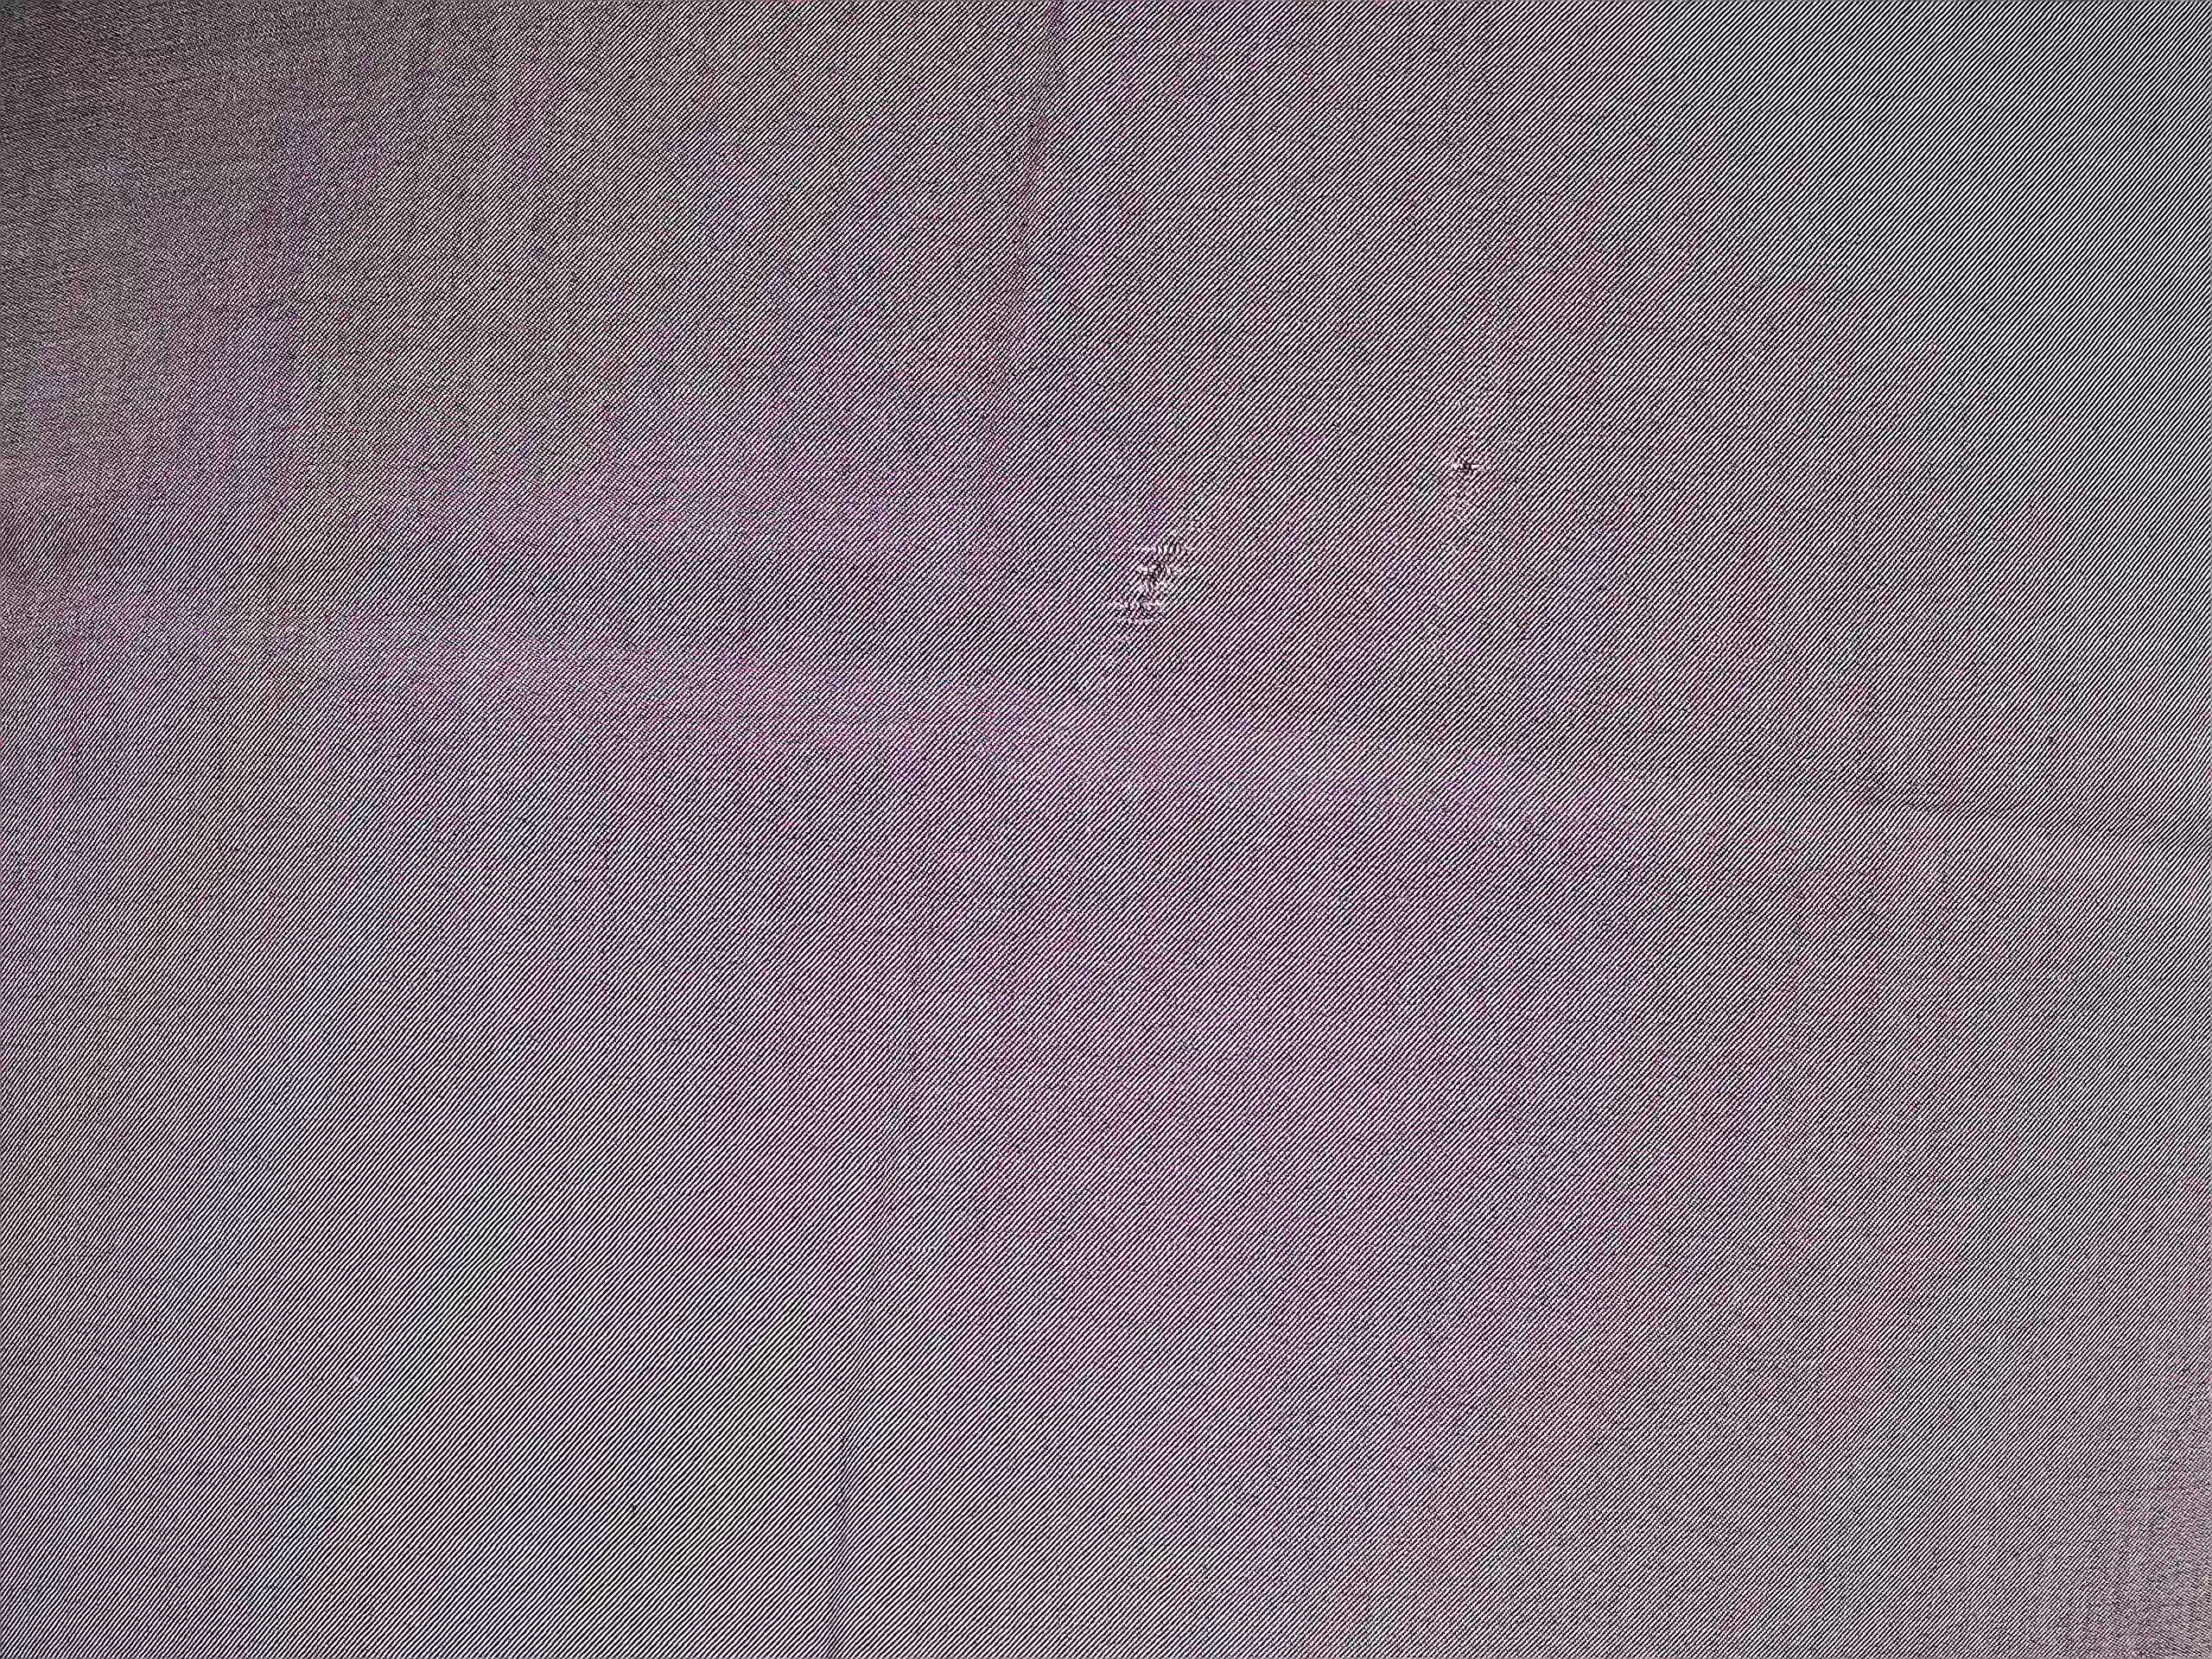knots: (1096, 500, 1224, 664), (1425, 423, 1501, 504)
